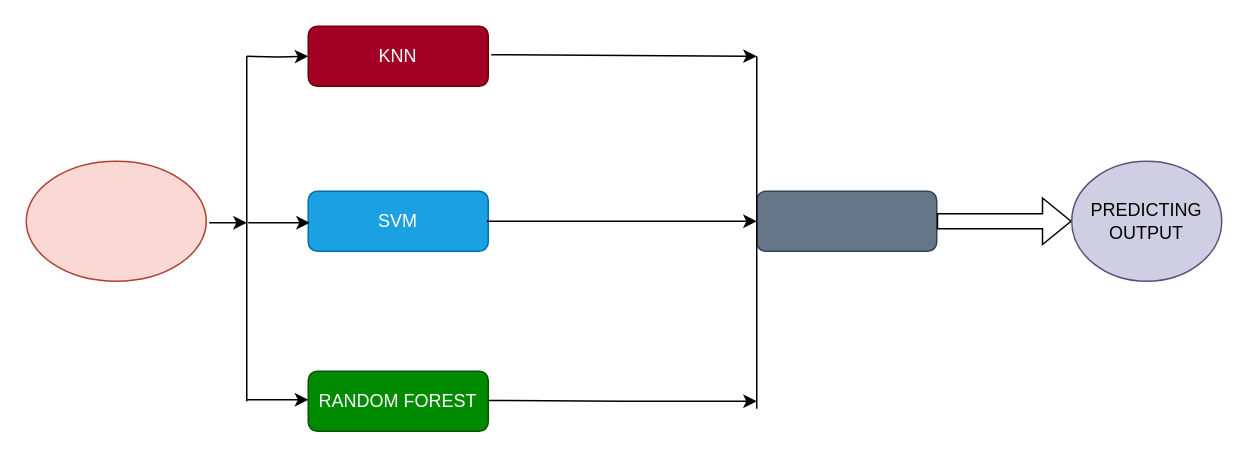
The diagram is 1248 pixels wide and 458 high, and some of its shapes have lost their labels. Each missing label, with the centre of its shape:
"ENSEMBLE" belongs at point 846,220.
"TRAIN THE MODEL WITH DATA" belongs at point 115,220.
